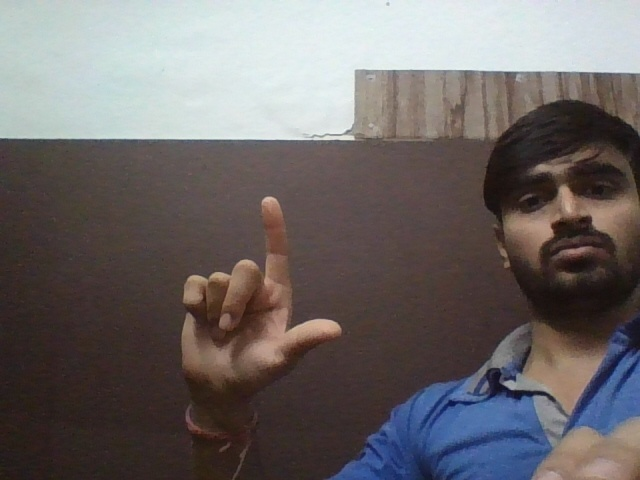L: (174, 187, 345, 397)
